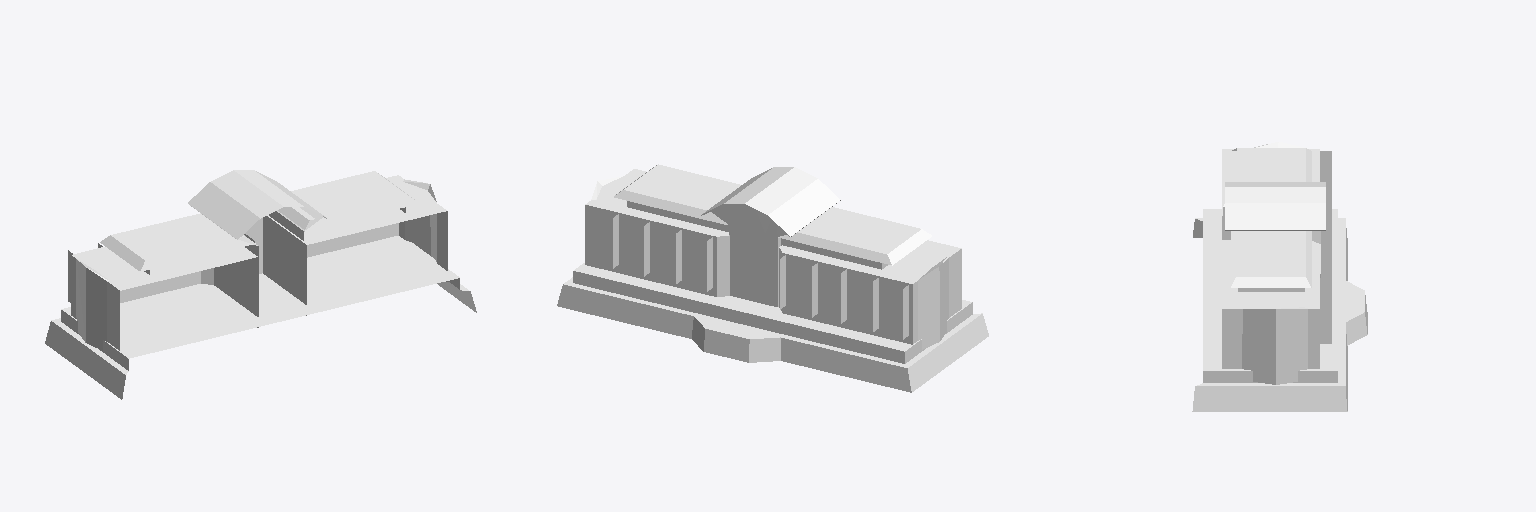
File: koerner.obj
3 views of the same model, side by side, from view 1: azimuth 30°, elevation 25°; view 2: azimuth 150°, elevation 25°; view 3: azimuth 270°, elevation 25° (orthographic).
Visible parts, largest first — view 1: koerner14_Mesh.001, koerner7_Mesh.001, koerner13_Mesh.001, koerner16_Mesh.001, koerner15_Mesh.001, koerner17_Mesh.001; view 2: koerner14_Mesh.001, koerner7_Mesh.001, koerner13_Mesh.001, koerner16_Mesh.001, koerner15_Mesh.001, koerner17_Mesh.001, koerner8_Mesh.001, koerner12_Mesh.001; view 3: koerner14_Mesh.001, koerner13_Mesh.001, koerner16_Mesh.001, koerner17_Mesh.001, koerner15_Mesh.001, koerner7_Mesh.001, koerner6_Mesh.001.
Part boxes in pixels (left/top/right/bottom): koerner14_Mesh.001: left=45, top=236, right=476, bottom=399; koerner7_Mesh.001: left=71, top=247, right=257, bottom=350; koerner13_Mesh.001: left=263, top=175, right=447, bottom=315; koerner16_Mesh.001: left=188, top=170, right=326, bottom=327; koerner15_Mesh.001: left=100, top=213, right=255, bottom=271; koerner17_Mesh.001: left=278, top=171, right=419, bottom=231; koerner14_Mesh.001: left=557, top=263, right=988, bottom=392; koerner7_Mesh.001: left=779, top=240, right=961, bottom=349; koerner13_Mesh.001: left=585, top=169, right=729, bottom=296; koerner16_Mesh.001: left=701, top=167, right=840, bottom=306; koerner15_Mesh.001: left=778, top=207, right=931, bottom=265; koerner17_Mesh.001: left=614, top=164, right=740, bottom=224; koerner8_Mesh.001: left=781, top=238, right=887, bottom=269; koerner12_Mesh.001: left=627, top=201, right=728, bottom=231; koerner14_Mesh.001: left=1192, top=209, right=1367, bottom=411; koerner13_Mesh.001: left=1222, top=240, right=1320, bottom=384; koerner16_Mesh.001: left=1223, top=182, right=1325, bottom=239; koerner17_Mesh.001: left=1231, top=231, right=1311, bottom=287; koerner15_Mesh.001: left=1231, top=148, right=1311, bottom=181; koerner7_Mesh.001: left=1222, top=142, right=1320, bottom=243; koerner6_Mesh.001: left=1320, top=293, right=1331, bottom=343.
Bounding box in the file's own units: 0.0673 × 0.0249 × 0.0287.